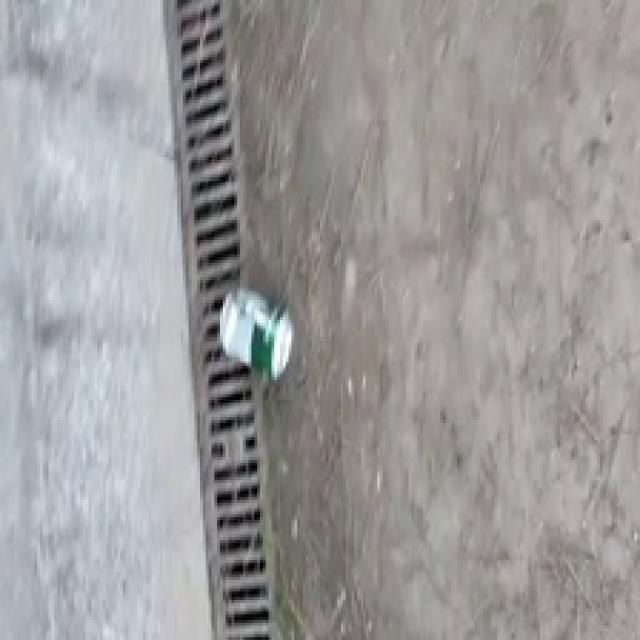recyclable: (218, 289, 298, 379)
